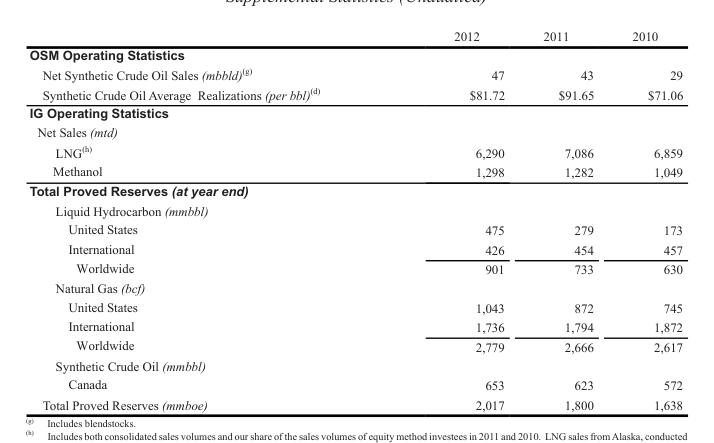table: (28, 28, 682, 411)
table column: (28, 28, 386, 411), (386, 28, 523, 411), (523, 28, 612, 411), (612, 28, 682, 411)
table column header: (28, 28, 682, 45)
table projected row header: (28, 103, 682, 122), (28, 122, 682, 141), (28, 181, 682, 200), (28, 200, 682, 219), (28, 278, 682, 297), (28, 355, 682, 374), (28, 45, 682, 63)
table row: (28, 63, 682, 83), (28, 83, 682, 103), (28, 141, 682, 161), (28, 161, 682, 181), (28, 219, 682, 239), (28, 258, 682, 278), (28, 335, 682, 355), (28, 374, 682, 394), (28, 103, 682, 122), (28, 122, 682, 141), (28, 181, 682, 200), (28, 200, 682, 219), (28, 239, 682, 258), (28, 278, 682, 297), (28, 297, 682, 316), (28, 316, 682, 335), (28, 355, 682, 374), (28, 45, 682, 63), (28, 28, 682, 45), (28, 394, 682, 411)
